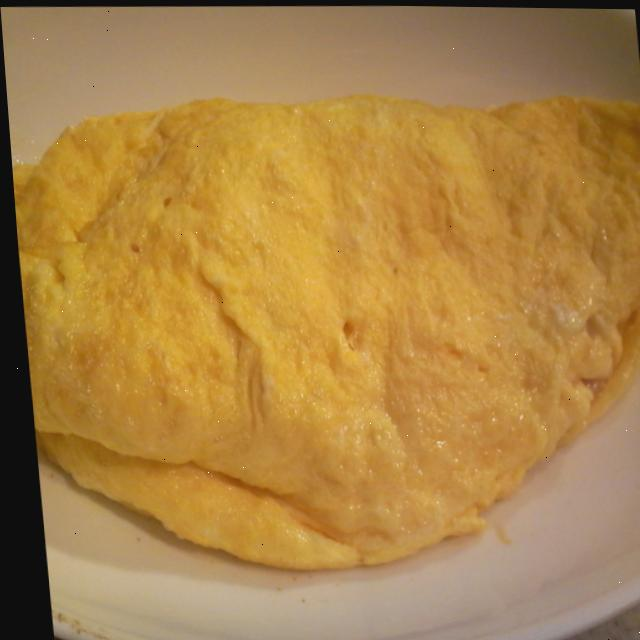鸡蛋料理: (3, 60, 640, 582)
